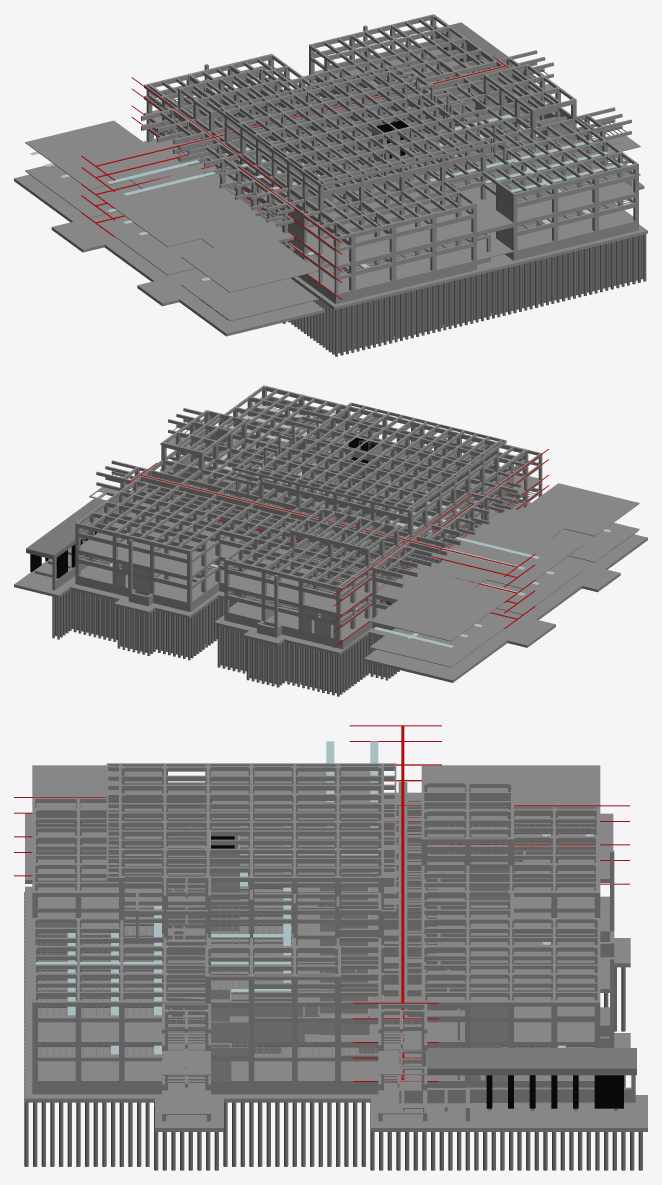
3 views of the same model, one above another, from view 1: azimuth 30°, elevation 25°; view 2: azimuth 150°, elevation 25°; view 3: azimuth 270°, elevation 25° (orthographic). The views are drawn at different scales.
Size of the model in its own units: 354 by 102 by 289.
